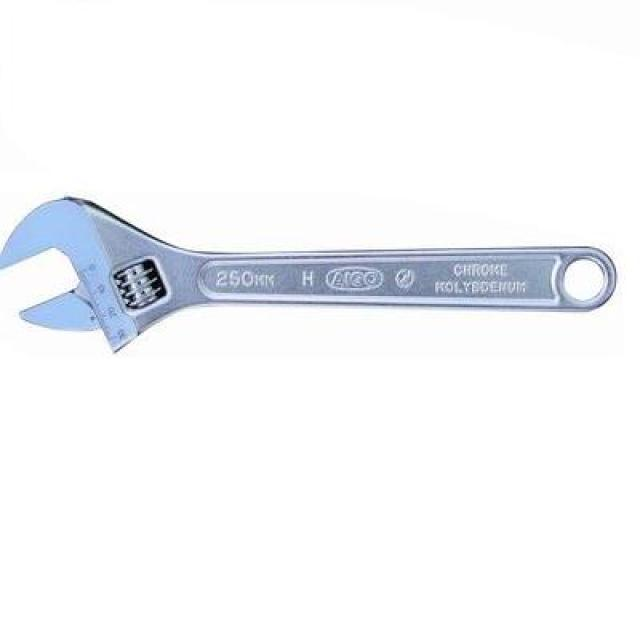wrench: (0, 197, 619, 358)
